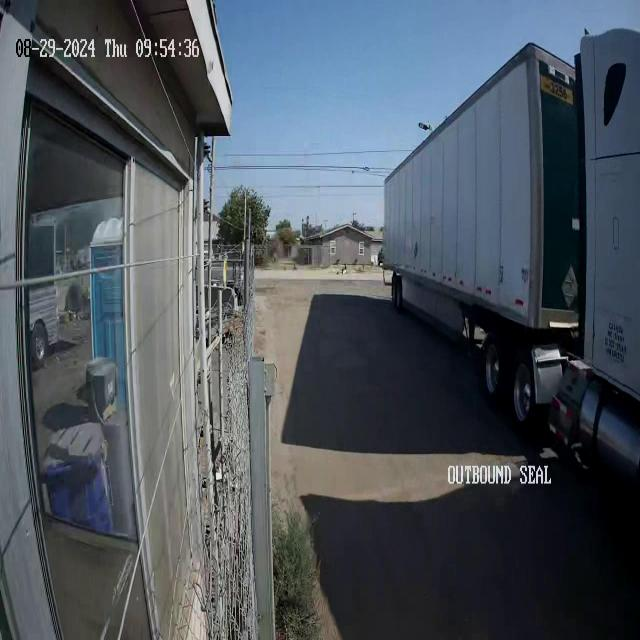CONTAINER: (379, 40, 586, 327)
